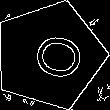O_W: (17, 27, 82, 83)
